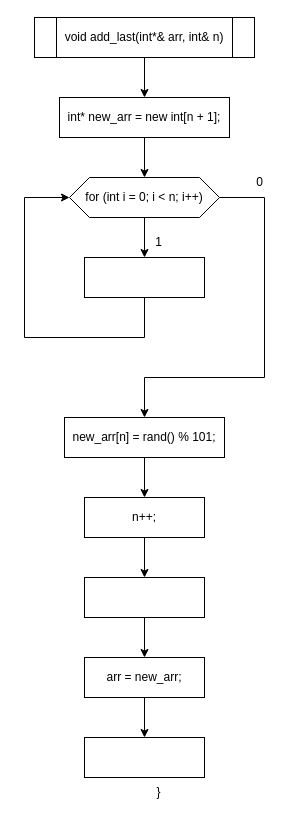
This 292x825 diagram has some shape labels left out. The shapes that lost their labels are listed below. From the top down, each one's box as (x1, y1, x2, y2) in pixels, then its label:
(84, 256, 204, 298): new_arr[i] = arr[i];
(84, 576, 204, 618): delete[] arr;
(84, 736, 204, 778): new_arr = nullptr;
